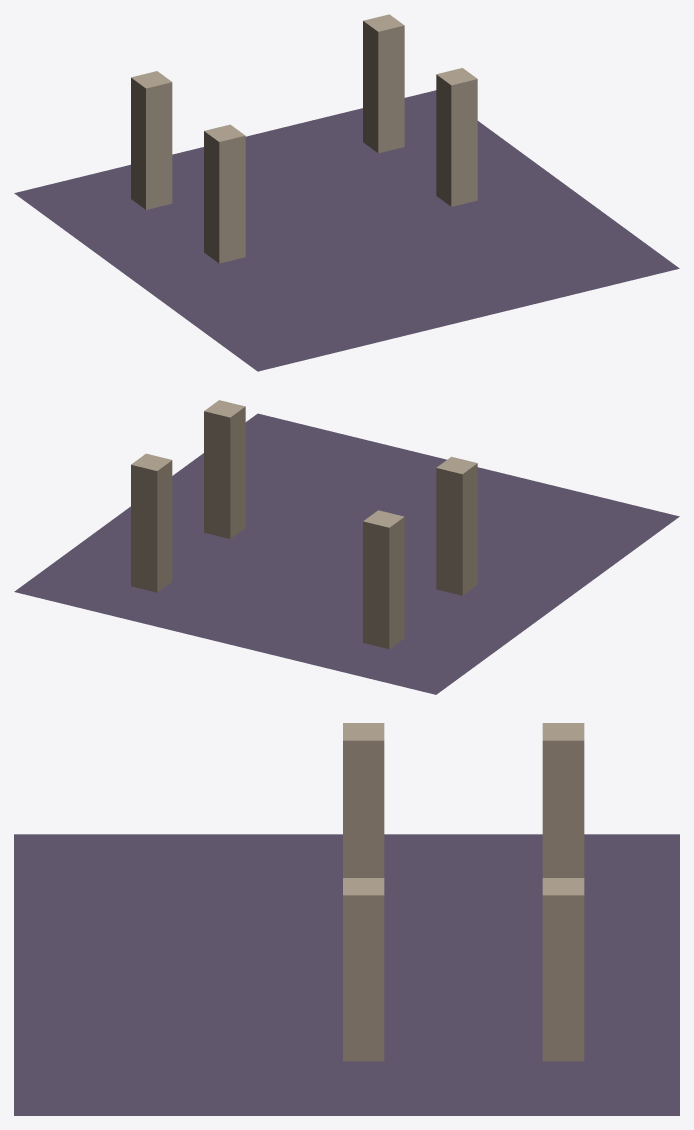
3 renders of one model, top to bottom at view 1: azimuth 30°, elevation 25°; view 2: azimuth 150°, elevation 25°; view 3: azimuth 270°, elevation 25°, orthographic. The views are drawn at different scales.
Parts seen in each view (by area): view 1: test; view 2: test; view 3: test.
Boxes of the visible parts, bbox=[...] form: test: bbox=[14, 14, 679, 371]; test: bbox=[14, 400, 679, 694]; test: bbox=[14, 723, 679, 1115].
Bounding box in the file's own units: 8 × 2.2 × 8.
